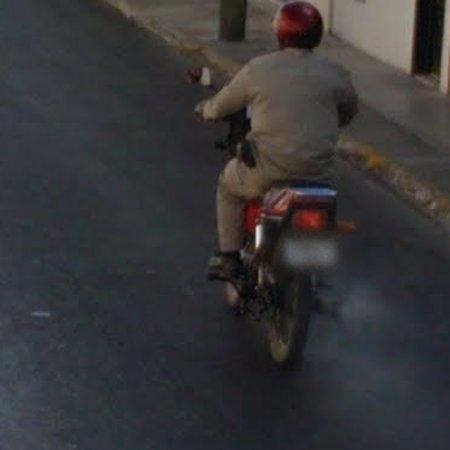motorcycles: (209, 177, 357, 368), (217, 108, 262, 174)
